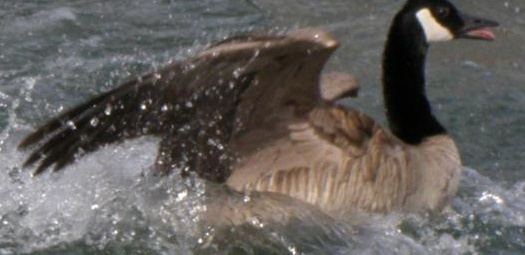goose: (18, 1, 510, 233)
